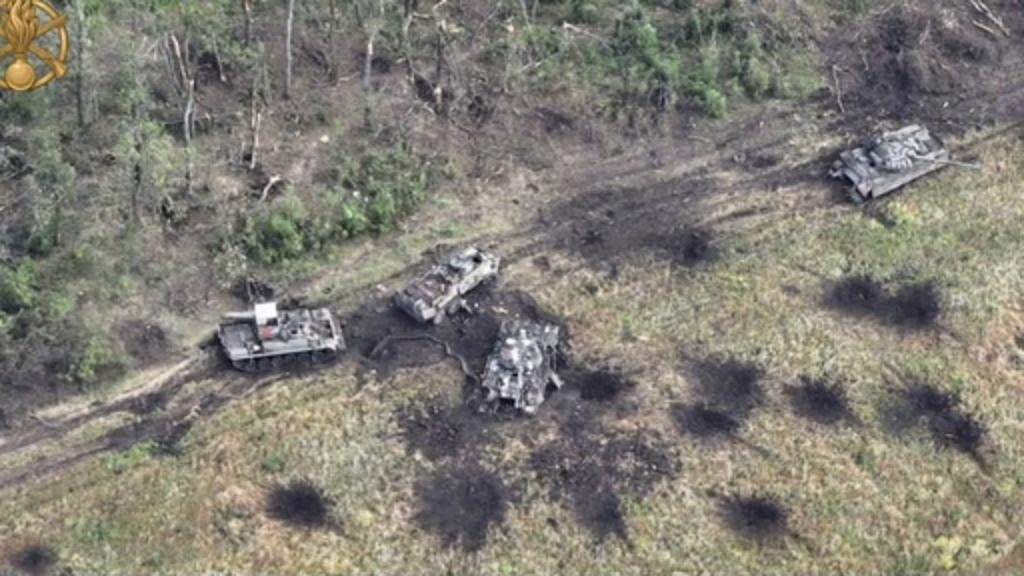APC-IFV: (206, 292, 354, 366), (392, 240, 506, 324)
TANK: (826, 118, 984, 210), (476, 316, 570, 432)
